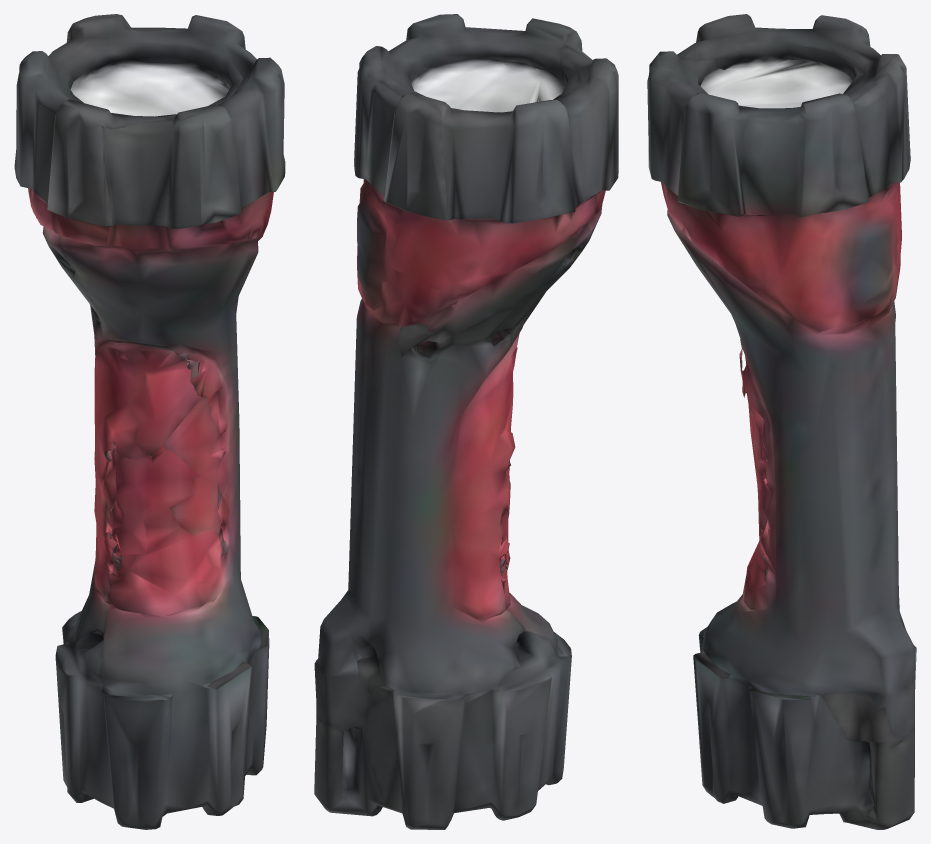
File: HeavyDuty_Flashlight-medium.glb
3 renders of one model, left to right at view 1: azimuth 30°, elevation 25°; view 2: azimuth 150°, elevation 25°; view 3: azimuth 270°, elevation 25°, orthographic. The views are drawn at different scales.
Parts seen in each view (by area): view 1: HeavyDuty_Flashlight; view 2: HeavyDuty_Flashlight; view 3: HeavyDuty_Flashlight.
Boxes of the visible parts, x1,y1,x2,y2 form: HeavyDuty_Flashlight: (14, 14, 285, 829); HeavyDuty_Flashlight: (314, 14, 618, 829); HeavyDuty_Flashlight: (647, 14, 916, 829).
Bounding box in the file's own units: 0.0771 × 0.2287 × 0.0775.
1 material, 1 textured.
